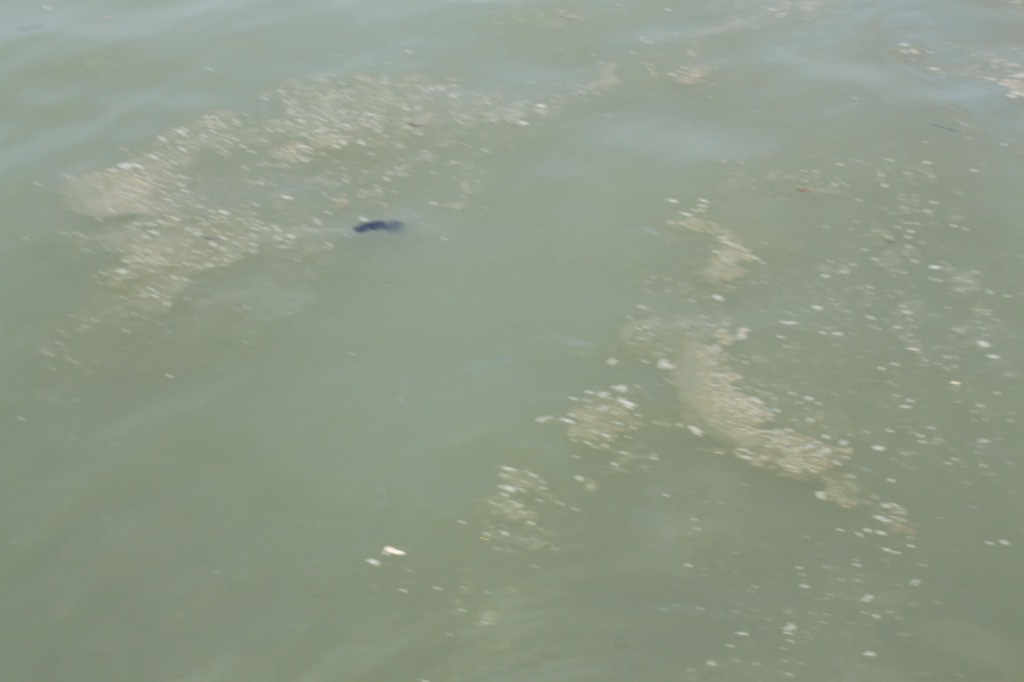plastic: (350, 209, 421, 247), (377, 538, 410, 566), (361, 549, 390, 577)
